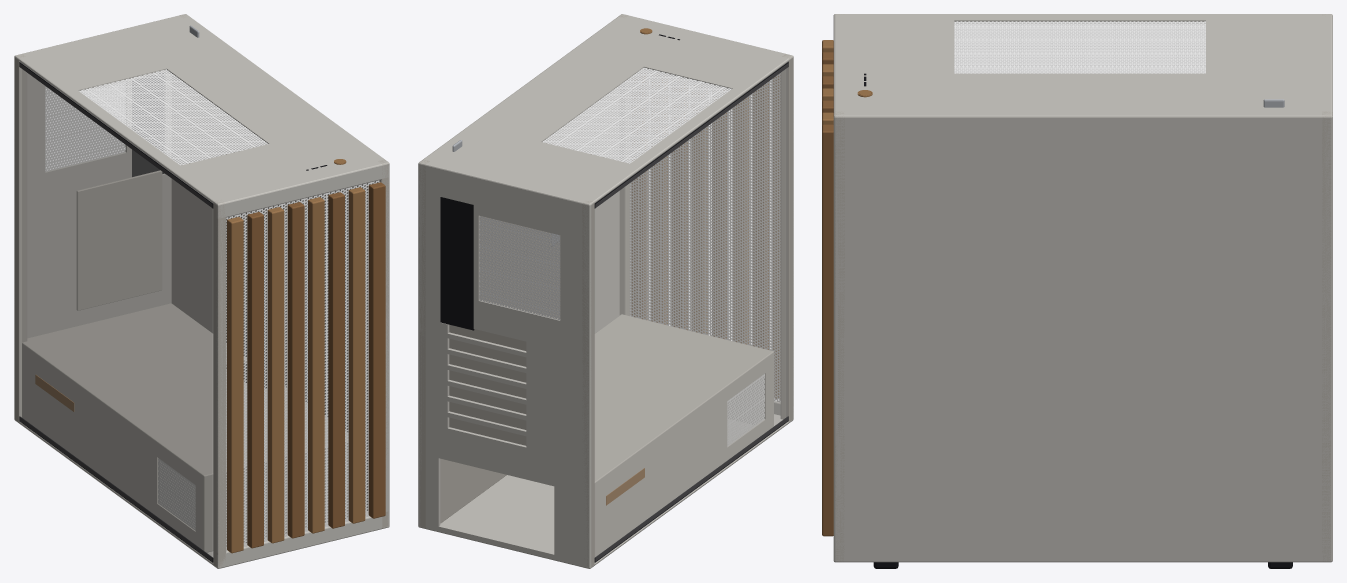
Rendered from case-bitlab-grove.glb.
3 views of the same model, side by side, from view 1: azimuth 30°, elevation 25°; view 2: azimuth 150°, elevation 25°; view 3: azimuth 270°, elevation 25° (orthographic). The views are drawn at different scales.
Visible parts, largest first — view 1: case_CaseSolid, glass_side, case_Perforated; view 2: case_CaseSolid, glass_side, case_Perforated; view 3: case_CaseSolid, case_Perforated.
Boxes of the visible parts, left/top/right/bottom form: case_CaseSolid: left=14, top=14, right=389, bottom=568; glass_side: left=20, top=64, right=212, bottom=560; case_Perforated: left=45, top=69, right=379, bottom=550; case_CaseSolid: left=418, top=14, right=793, bottom=568; glass_side: left=595, top=64, right=787, bottom=560; case_Perforated: left=479, top=67, right=780, bottom=446; case_CaseSolid: left=822, top=14, right=1332, bottom=568; case_Perforated: left=954, top=21, right=1205, bottom=73.
Size of the model in its own units: 0.232 by 0.495 by 0.487.
3 materials, 1 textured.
